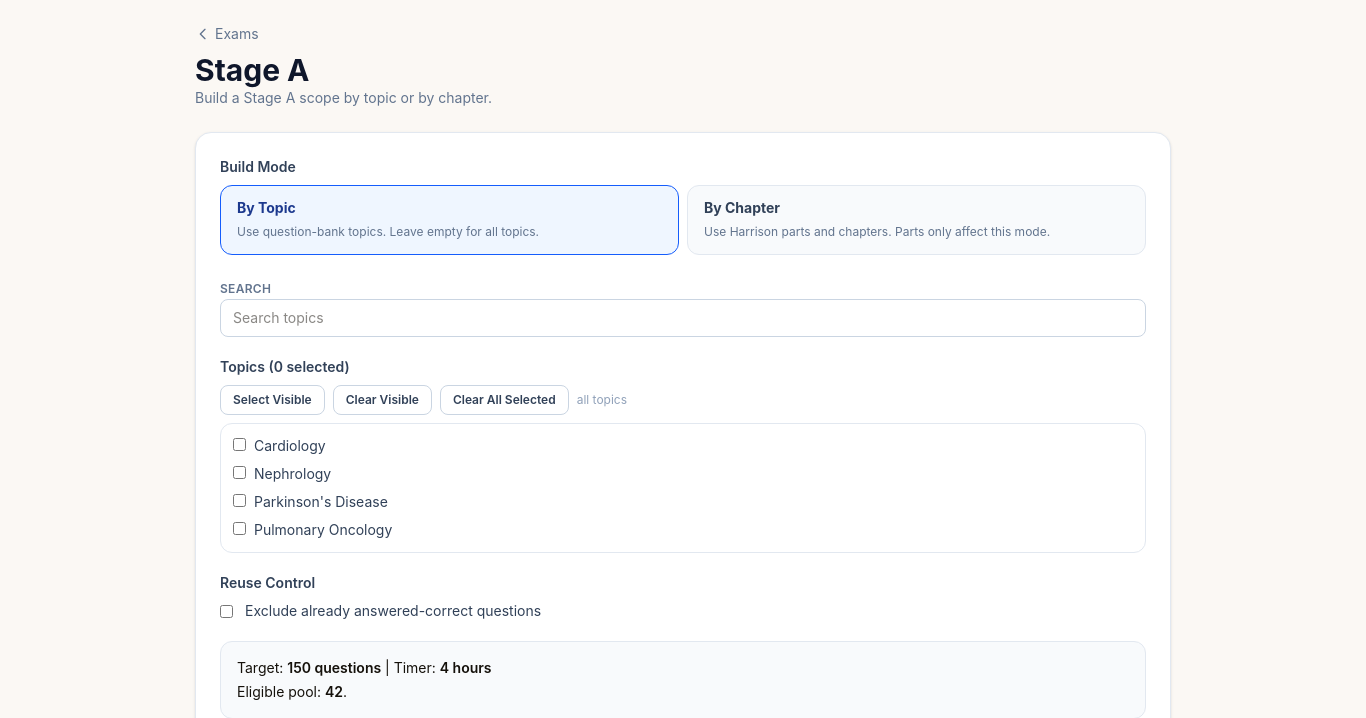
it: ExamsPage › chapter mode search supports partial word matching against chapter labels
This screenshot has width=1366, height=718.
Click the button "By Chapter". click: (742, 208)
box: [687,185,1146,255]
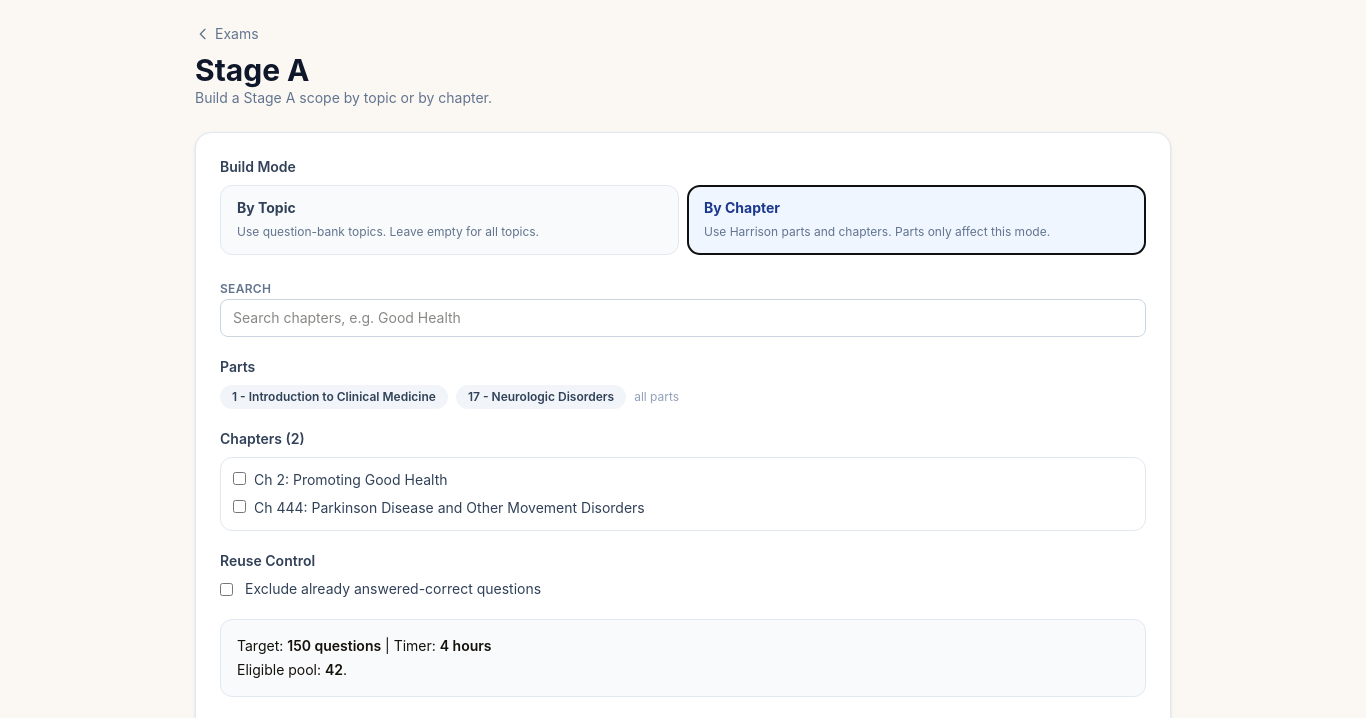
Type "Good Health" into the field with placeholder "Search chapters, e.g. Good Health". click: (683, 318)
box: [220,299,1146,337]
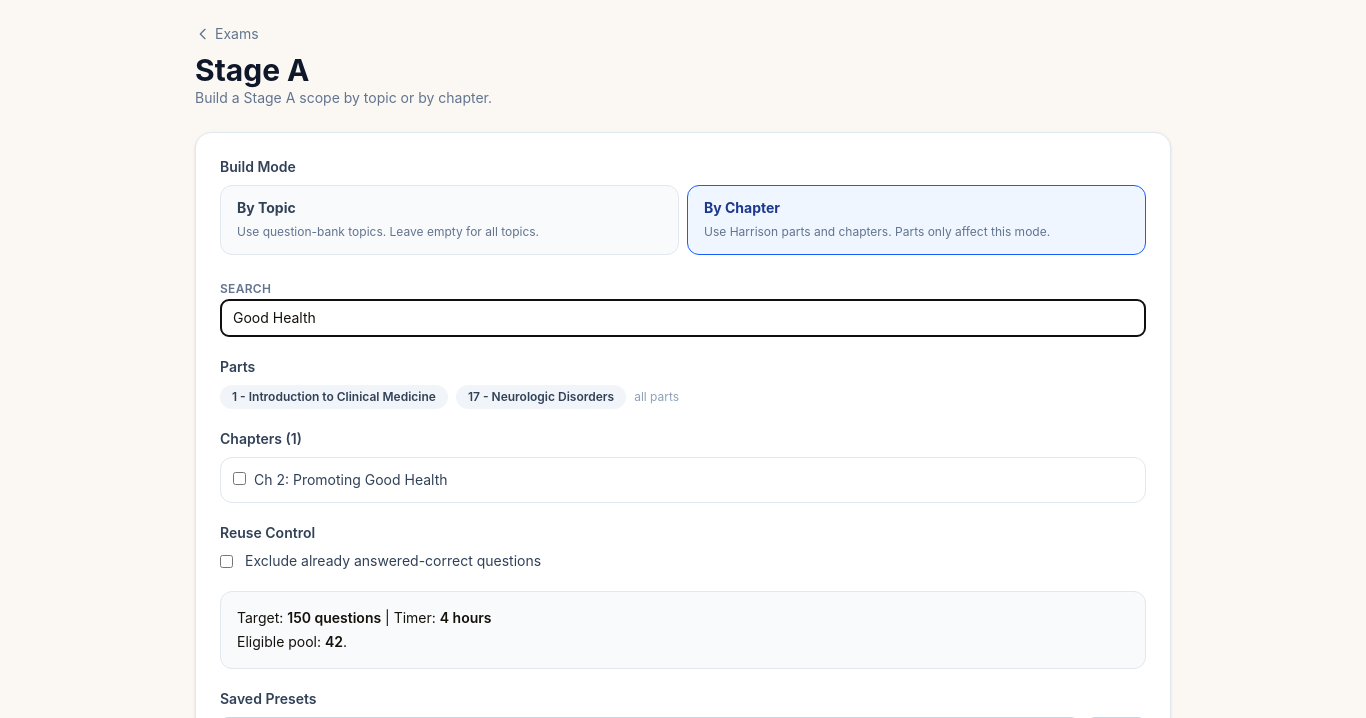
Check: the text "Ch 2: Promoting Good Health" is shown, box [254,470,448,490]
Check: the text "Parkinson Disease" is gone
